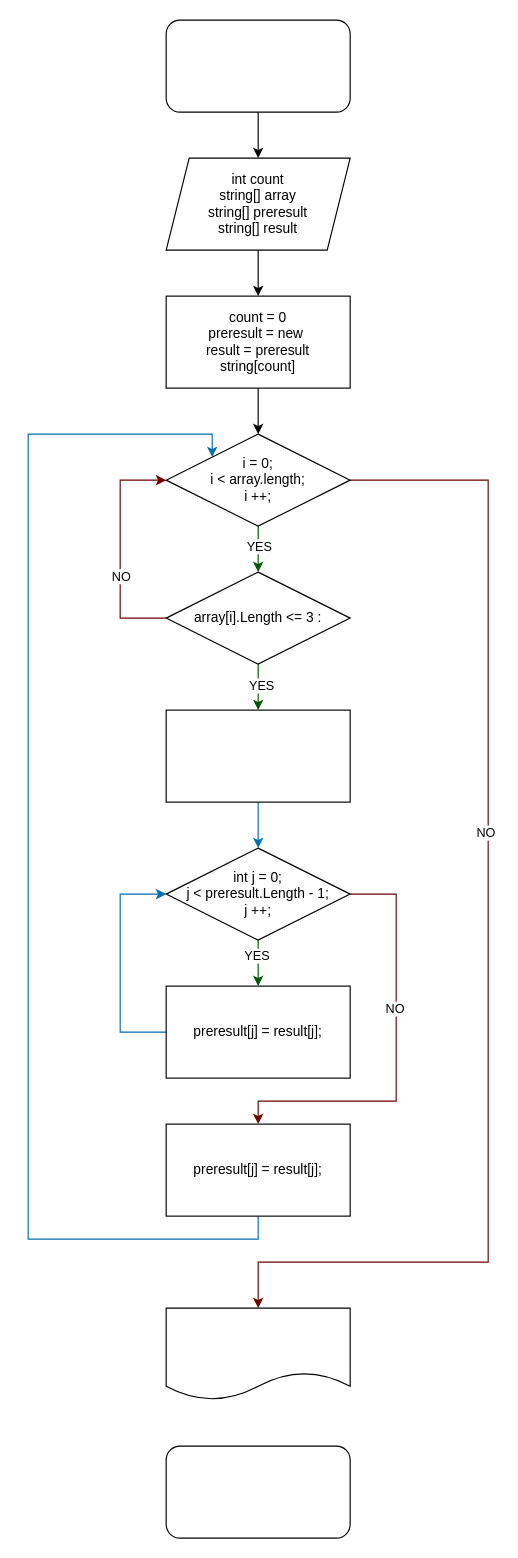
This 518x1558 diagram has some shape labels left out. The shapes that lost their labels are listed below. From the top down, each one's centre as x and y in pixels, then its label:
the point at 257,65: Begin
the point at 257,755: count++ preresult = new string[count]
the point at 257,1353: print (result);
the point at 257,1491: End.
